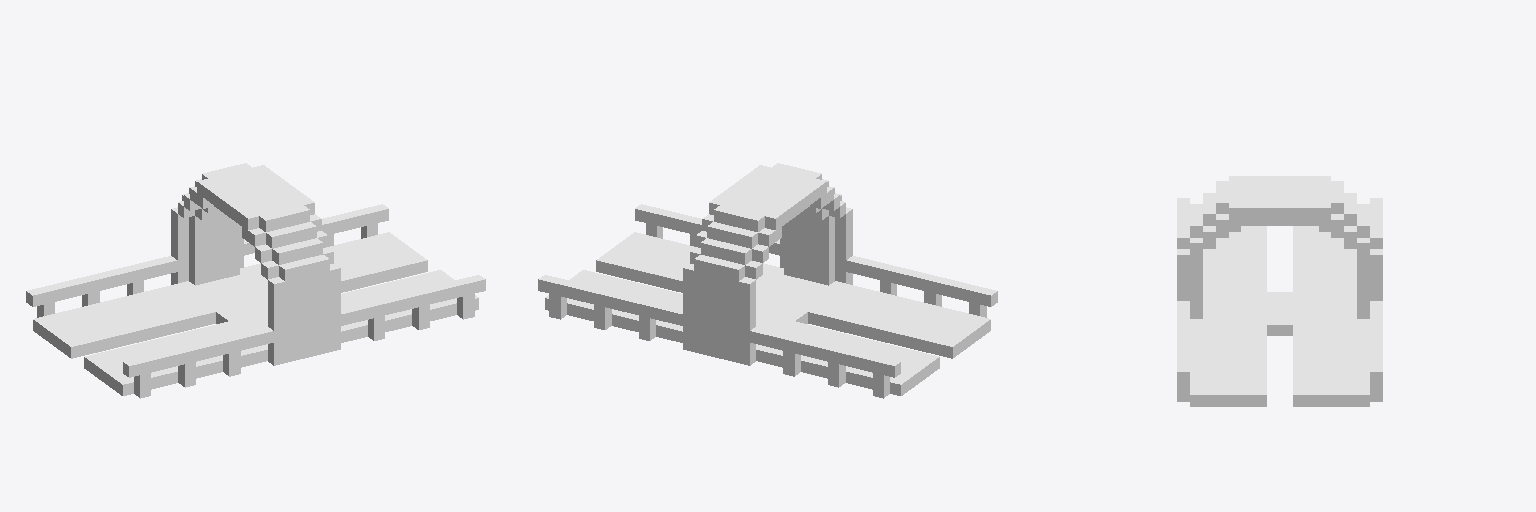
File: roadDirect.obj
The picture shows the model from 3 angles: view 1: azimuth 30°, elevation 25°; view 2: azimuth 150°, elevation 25°; view 3: azimuth 270°, elevation 25°; orthographic projection.
Parts seen in each view (by area): view 1: object 1; view 2: object 1; view 3: object 1.
Boxes of the visible parts, box(x1,y1,x2,y2) form: object 1: box(26, 163, 485, 398); object 1: box(538, 163, 997, 398); object 1: box(1177, 176, 1382, 406).
Bounding box in the file's own units: 3.2 × 1.1 × 1.6.